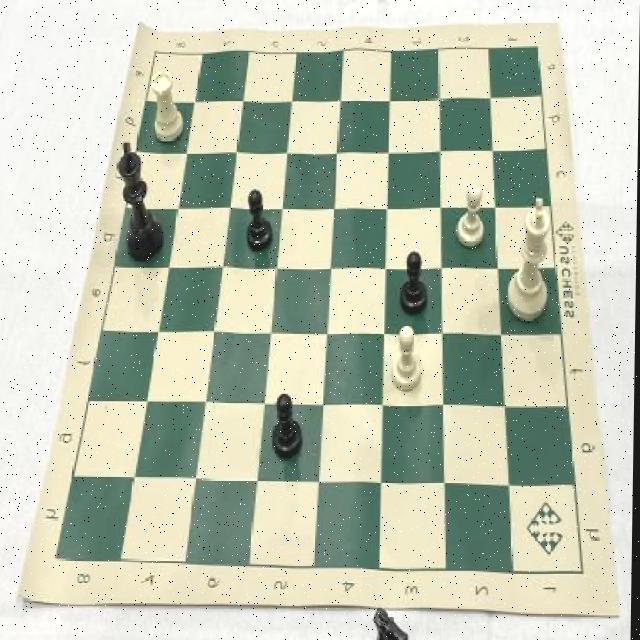black-bishop: (114, 136, 168, 262)
black-knight: (269, 383, 307, 463), (397, 242, 432, 319), (244, 182, 276, 254)
white-bishop: (504, 192, 558, 326)
white-knight: (388, 322, 429, 396), (453, 180, 490, 250)
white-queen: (146, 65, 187, 147)
